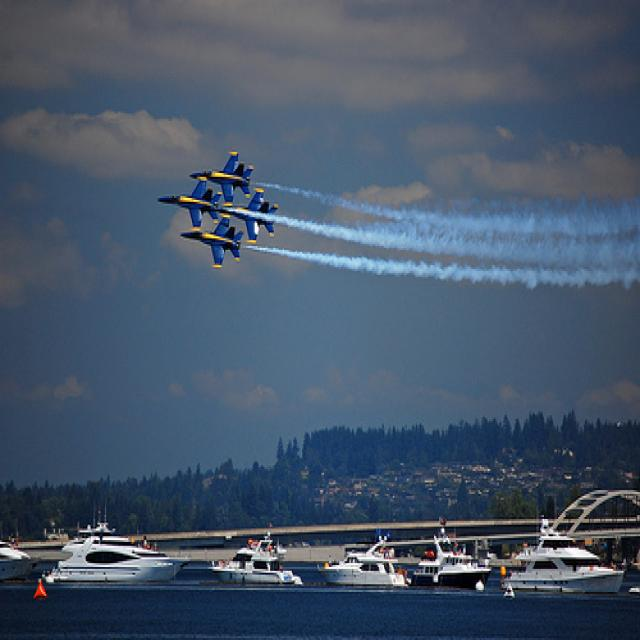aeroplane: (212, 182, 280, 245), (155, 166, 221, 228), (189, 143, 255, 203), (178, 212, 242, 270)
boat: (39, 520, 192, 591), (499, 526, 627, 597), (399, 526, 494, 593), (207, 528, 304, 591), (316, 531, 410, 591), (1, 524, 43, 587)
